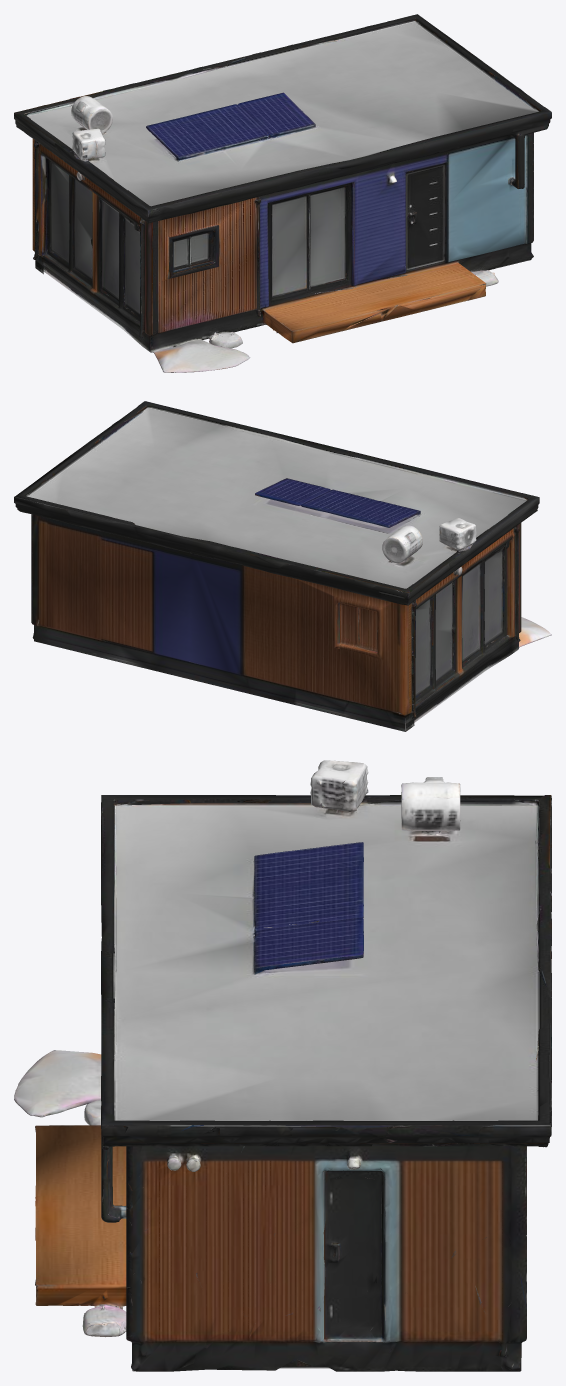
File: forest10bb.glb
3 renders of one model, top to bottom at view 1: azimuth 30°, elevation 25°; view 2: azimuth 150°, elevation 25°; view 3: azimuth 270°, elevation 25°, orthographic. The views are drawn at different scales.
Visible parts, largest first — view 1: Mesh_0; view 2: Mesh_0; view 3: Mesh_0.
Part boxes in pixels (x1,y1,x2,y2): Mesh_0: (14, 14, 551, 372); Mesh_0: (14, 401, 551, 731); Mesh_0: (14, 760, 551, 1371).
Size of the model in its own units: 1.9 by 0.8092 by 1.3.
1 material, 1 textured.
